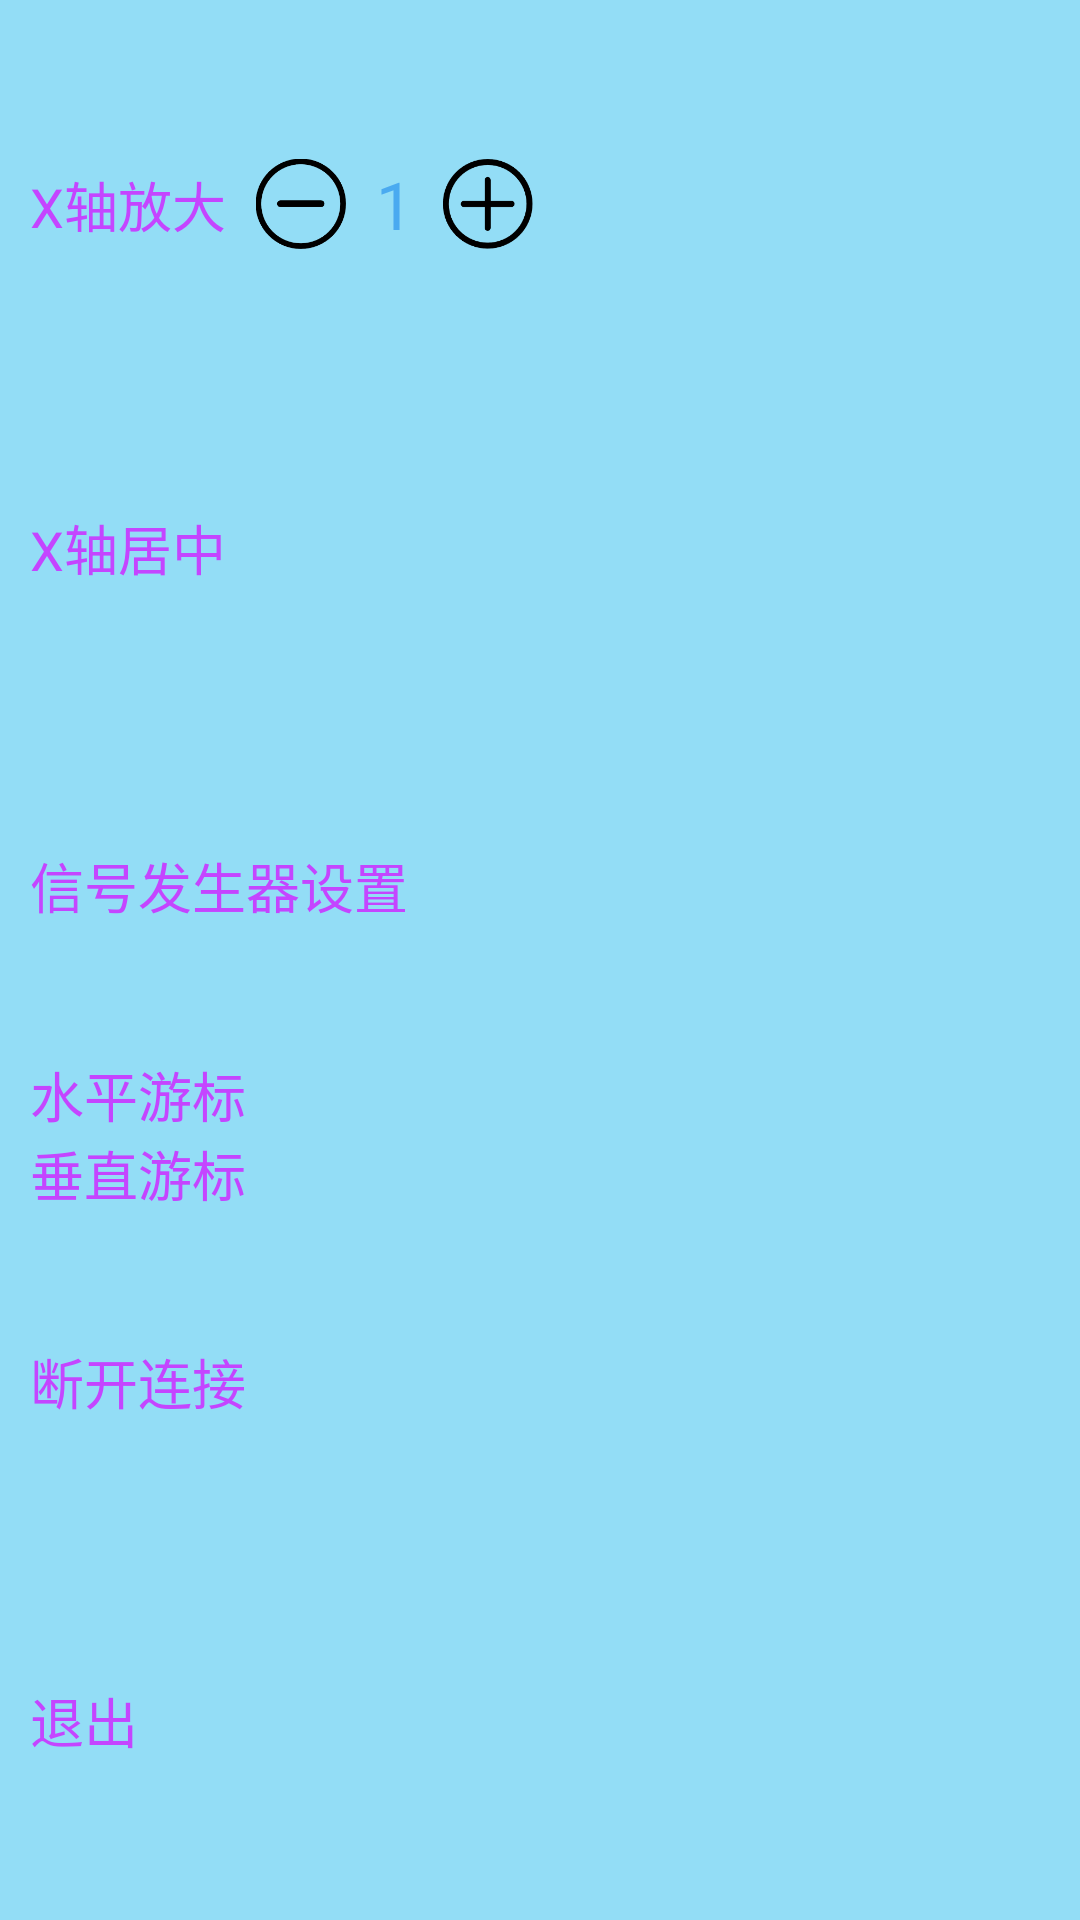

Icon click points for this 1080 × 1920 phone screenshot, format (x=x, y=y):
add: (x=488, y=204)
reduce: (x=301, y=204)
